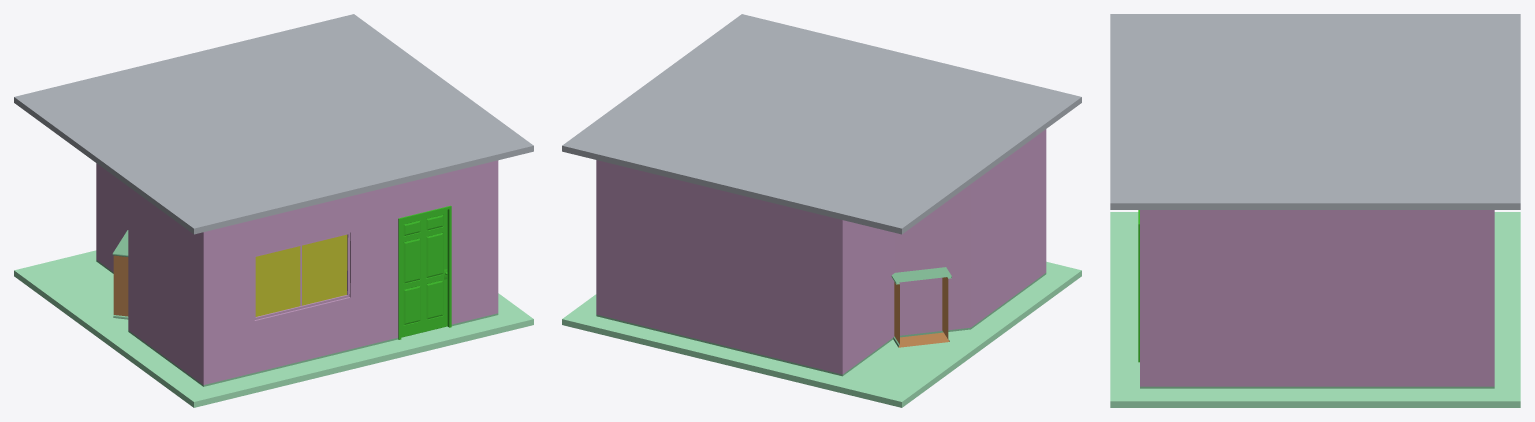
The model's file is FloorPlan22.fbx.
The picture shows the model from 3 angles, left to right: view 1: azimuth 30°, elevation 25°; view 2: azimuth 150°, elevation 25°; view 3: azimuth 270°, elevation 25°; orthographic projection. The views are drawn at different scales.
Parts seen in each view (by area): view 1: Ceiling, StandardWallSize, Floor, WindowPane, StandardDoor1, StandardDoorFrame1, StandardIslandHeight2, Window; view 2: StandardWallSize, Ceiling, Floor, StandardIslandHeight2; view 3: Ceiling, StandardWallSize, Floor.
Boxes of the visible parts, bbox=[...] form: Ceiling: bbox=[14, 14, 533, 234]; StandardWallSize: bbox=[96, 160, 498, 386]; Floor: bbox=[14, 250, 533, 407]; WindowPane: bbox=[255, 234, 347, 316]; StandardDoor1: bbox=[401, 209, 447, 337]; StandardDoorFrame1: bbox=[398, 205, 451, 339]; StandardIslandHeight2: bbox=[112, 230, 128, 319]; Window: bbox=[254, 232, 350, 319]; StandardWallSize: bbox=[596, 129, 1046, 376]; Ceiling: bbox=[562, 14, 1081, 234]; Floor: bbox=[562, 261, 1081, 407]; StandardIslandHeight2: bbox=[891, 267, 951, 347]; Ceiling: bbox=[1110, 14, 1520, 209]; StandardWallSize: bbox=[1140, 210, 1494, 388]; Floor: bbox=[1110, 212, 1520, 407].
Bounding box in the file's own units: 600 × 302 × 550.
